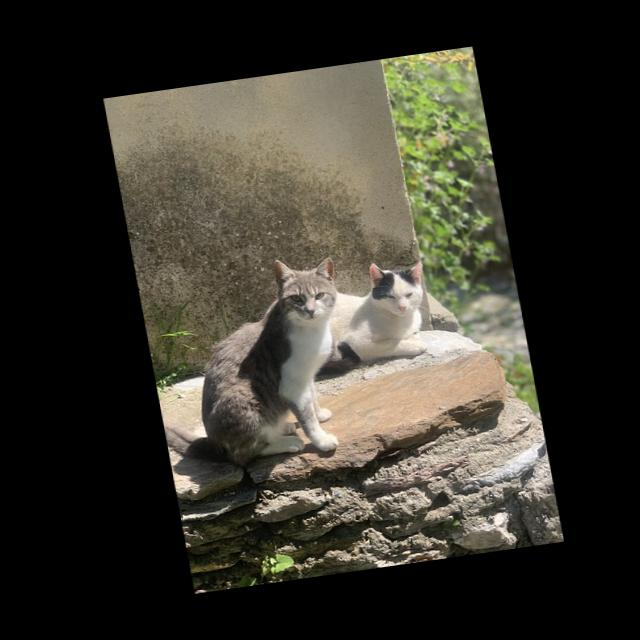animals: (134, 252, 365, 472), (298, 253, 438, 371)
